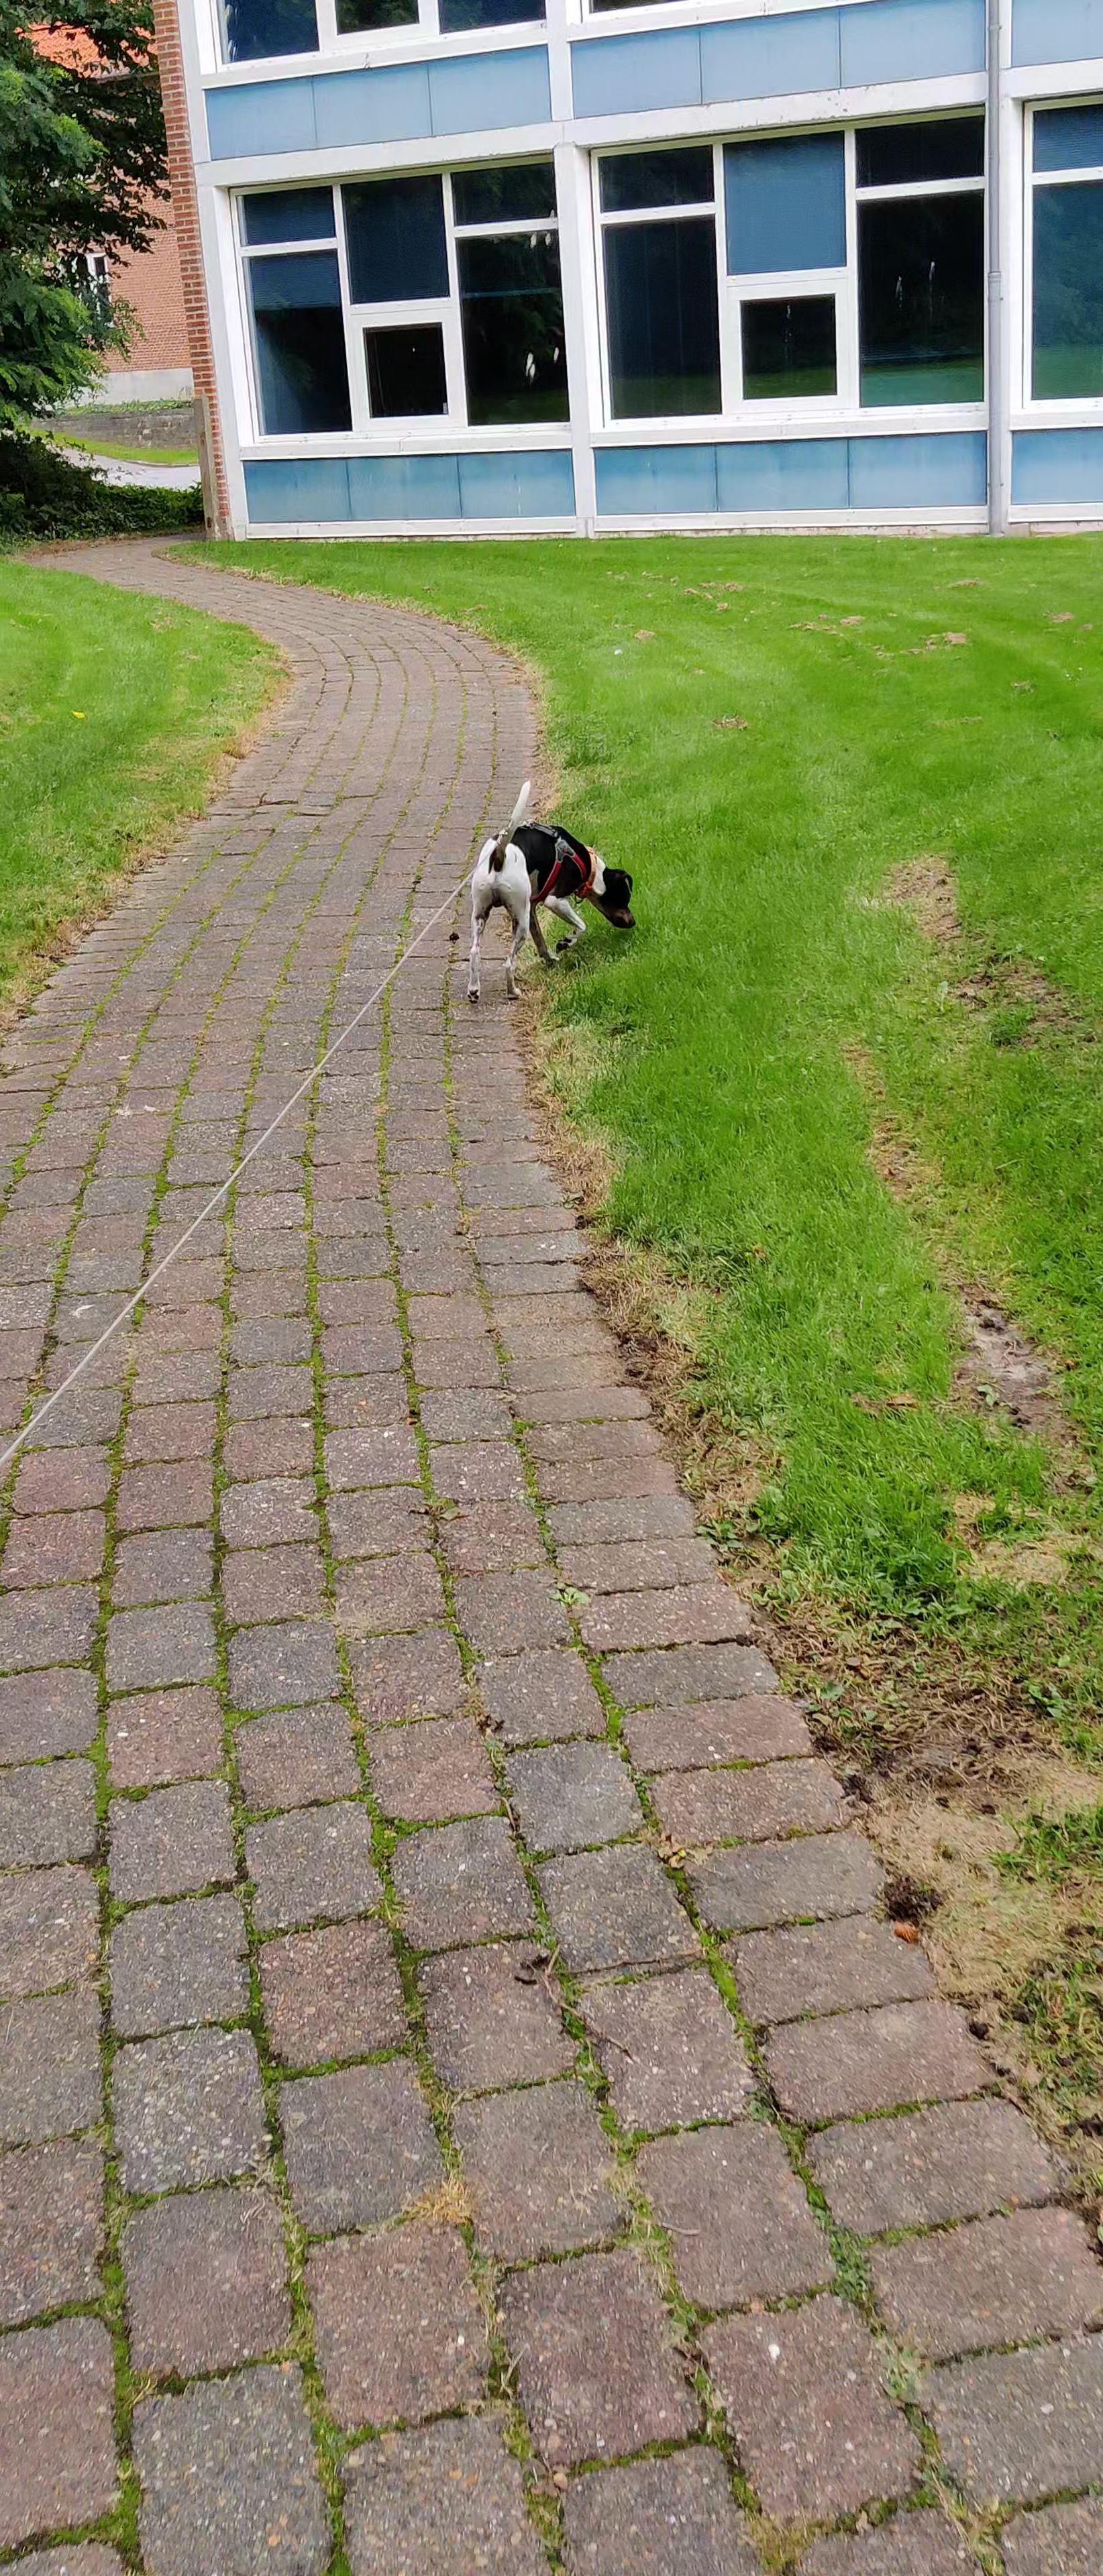Dog: (450, 772, 649, 1030)
